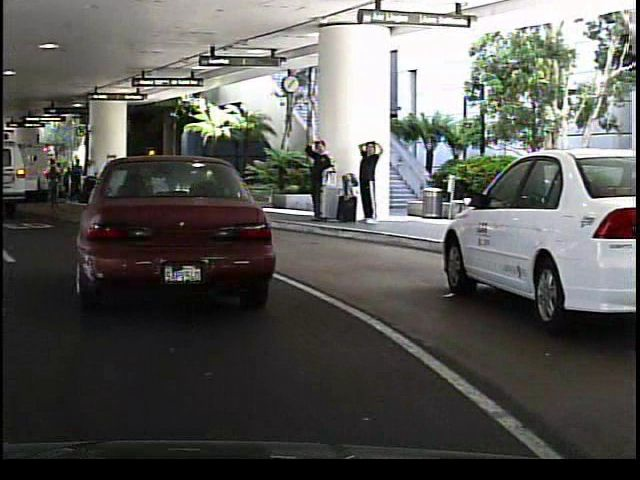person: (300, 134, 332, 220), (352, 135, 381, 226), (335, 150, 356, 218), (187, 152, 209, 201)
